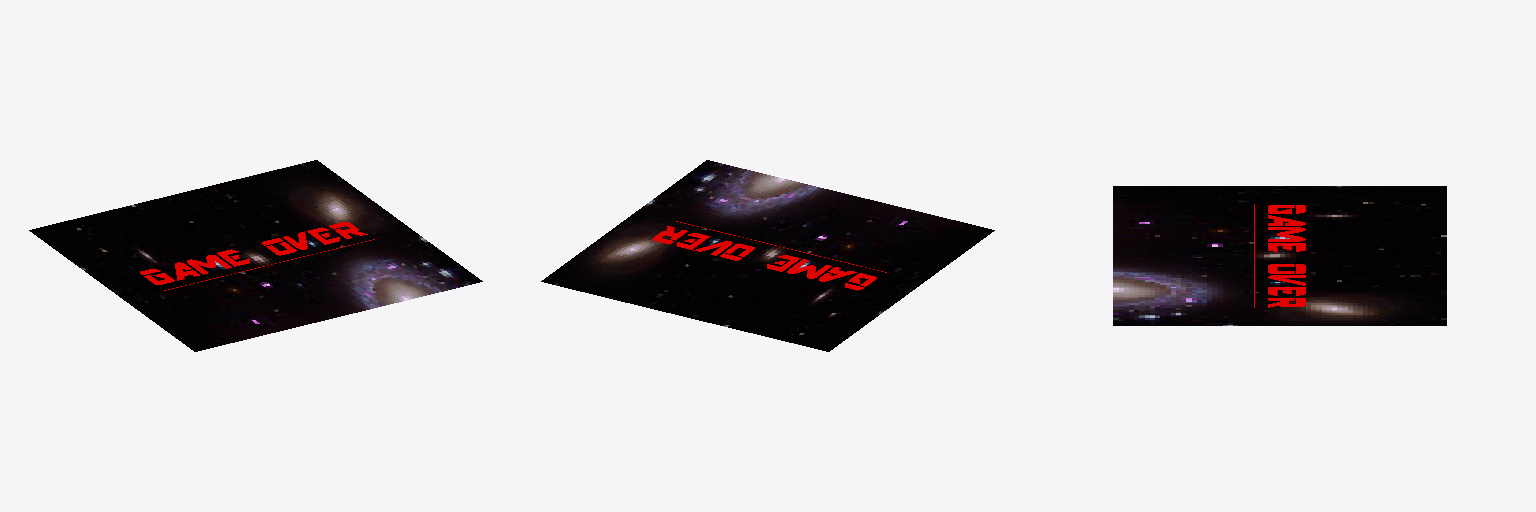
The picture shows the model from 3 angles: view 1: azimuth 30°, elevation 25°; view 2: azimuth 150°, elevation 25°; view 3: azimuth 270°, elevation 25°; orthographic projection.
Visible parts, largest first — view 1: pPlane1; view 2: pPlane1; view 3: pPlane1.
Part boxes in pixels (x1,y1,x2,y2): pPlane1: (29,160,482,351); pPlane1: (541,160,994,351); pPlane1: (1113,186,1446,325).
Bounding box in the file's own units: 1 × 0 × 1.
1 materials, 1 textured.